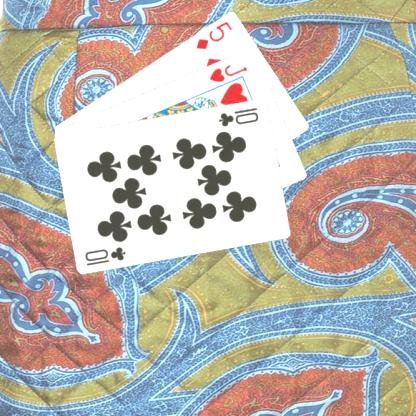10C: (216, 104, 260, 128), (82, 244, 127, 266)
5D: (193, 18, 234, 50)
JH: (206, 61, 249, 84)
